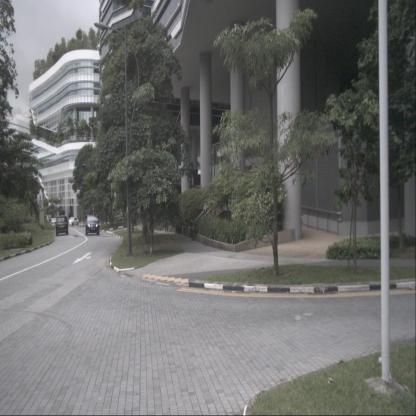human-pedestrian-adult: (189, 218, 199, 241), (165, 213, 168, 233)
vehicle-car: (85, 214, 100, 236), (54, 215, 69, 236), (67, 216, 79, 227), (49, 218, 59, 230)
